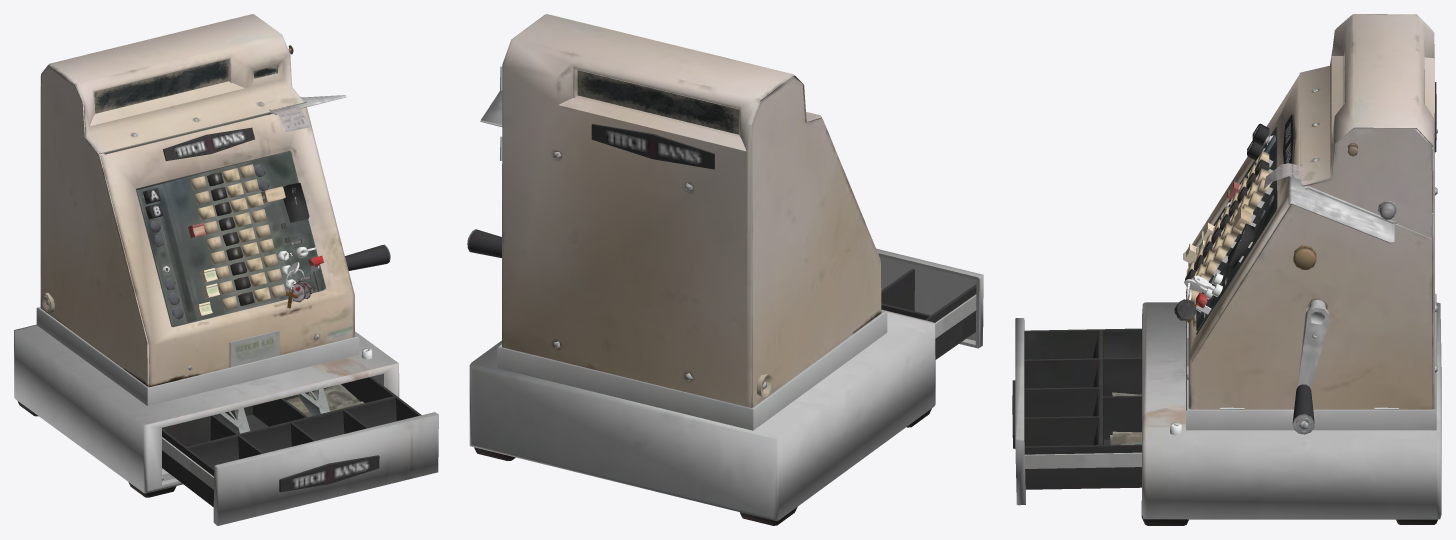
Rendered from cash_register.glb.
3 renders of one model, left to right at view 1: azimuth 30°, elevation 25°; view 2: azimuth 150°, elevation 25°; view 3: azimuth 270°, elevation 25°, orthographic. The views are drawn at different scales.
Parts seen in each view (by area): view 1: CashRegister_01_body, CashRegister_011_drawer; view 2: CashRegister_01_body, CashRegister_011_drawer; view 3: CashRegister_01_body, CashRegister_011_drawer.
Boxes of the visible parts, x1,y1,x2,y2 form: CashRegister_01_body: (14, 14, 399, 497); CashRegister_011_drawer: (162, 376, 438, 525); CashRegister_01_body: (467, 14, 935, 525); CashRegister_011_drawer: (876, 248, 983, 359); CashRegister_01_body: (1141, 14, 1441, 525); CashRegister_011_drawer: (1012, 318, 1141, 505).
Size of the model in its own units: 0.5993 by 0.6211 by 0.6242.
Materials: 2 (2 with a texture image).
